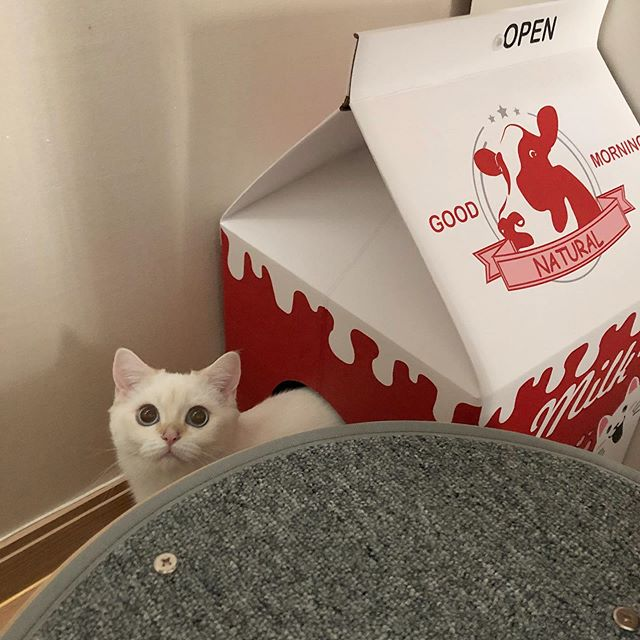cat: (101, 341, 246, 473)
